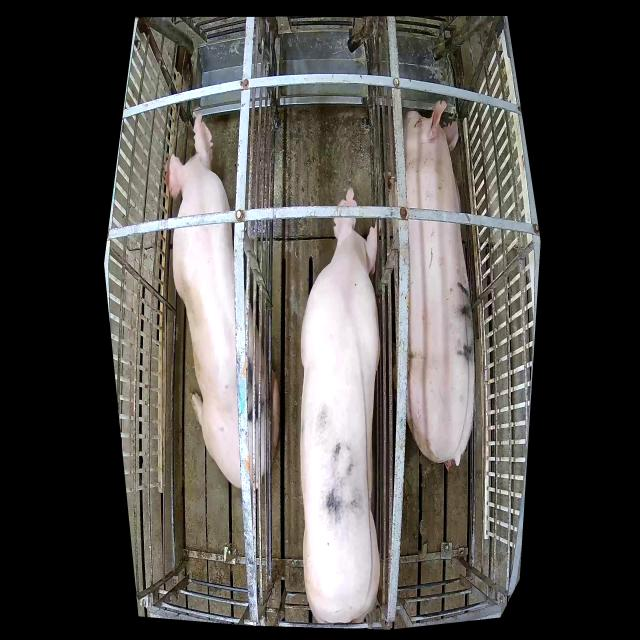pig: (165, 113, 281, 488), (301, 186, 381, 623), (402, 100, 475, 468)
